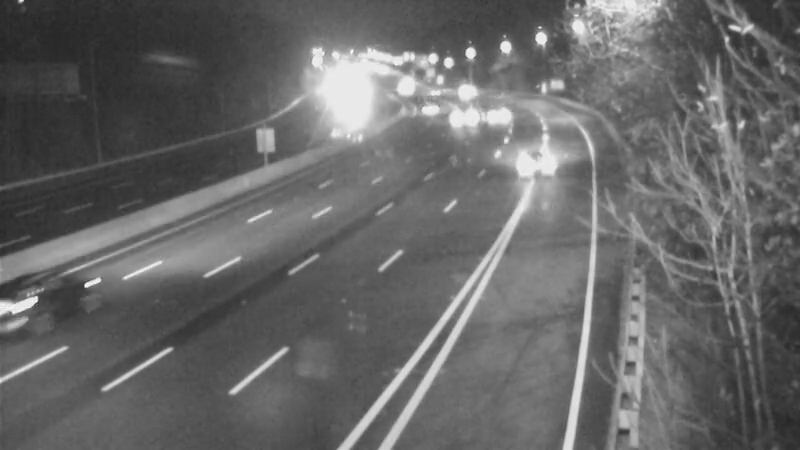vehicle: (496, 120, 576, 200), (1, 257, 80, 337), (441, 62, 491, 112), (377, 62, 427, 112), (407, 66, 457, 116), (400, 80, 450, 130), (433, 92, 483, 142), (473, 82, 523, 132)
